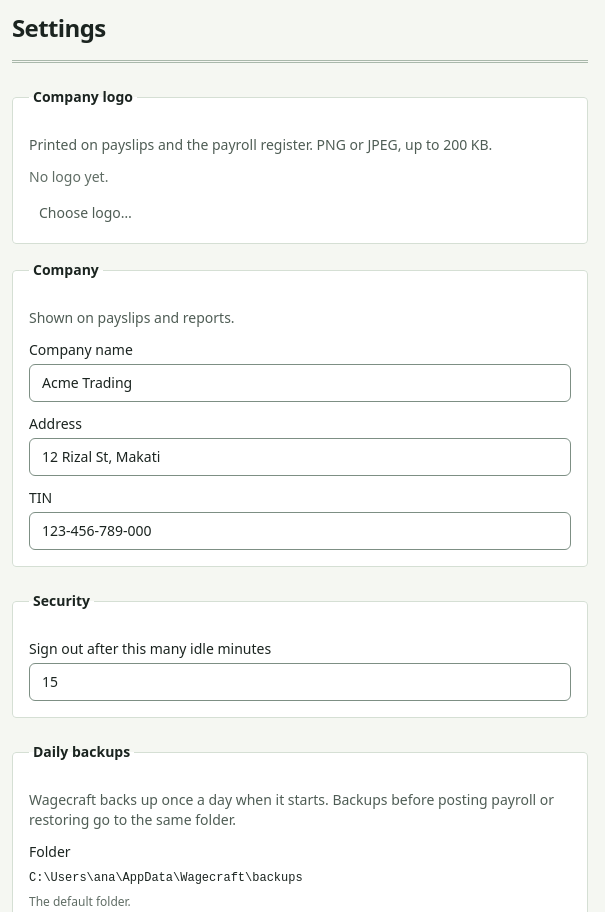
SettingsPage › shows why a logo was refused and keeps the old state
Expected: the text "No logo yet." is shown, x1=29 y1=167 x2=108 y2=186
Click the button "Choose logo…": [85, 213] box x1=29 y1=199 x2=142 y2=227
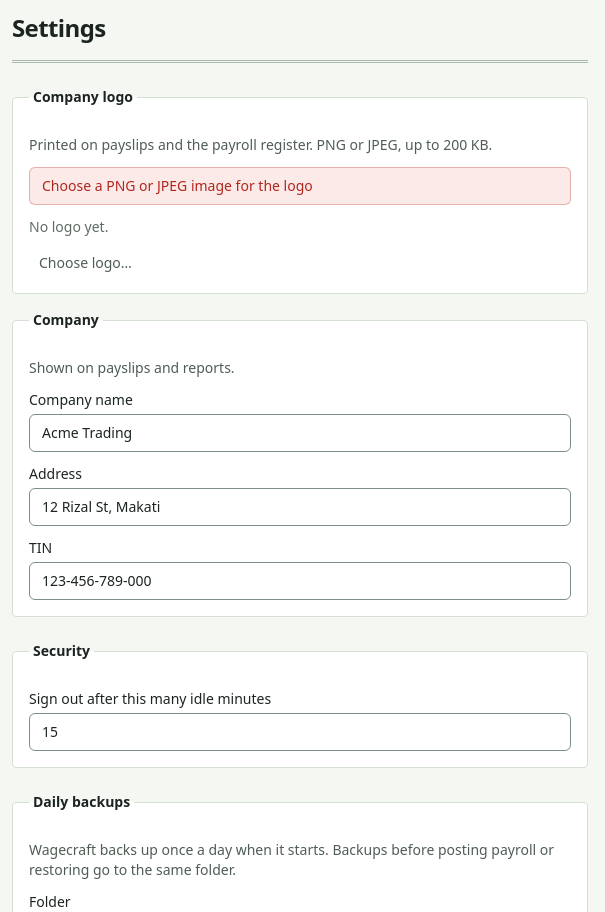
Expected: the text "No logo yet." is shown, x1=29 y1=217 x2=108 y2=236
Expected: the text "Choose a PNG or JPEG image for the logo" is shown, x1=29 y1=167 x2=571 y2=205
